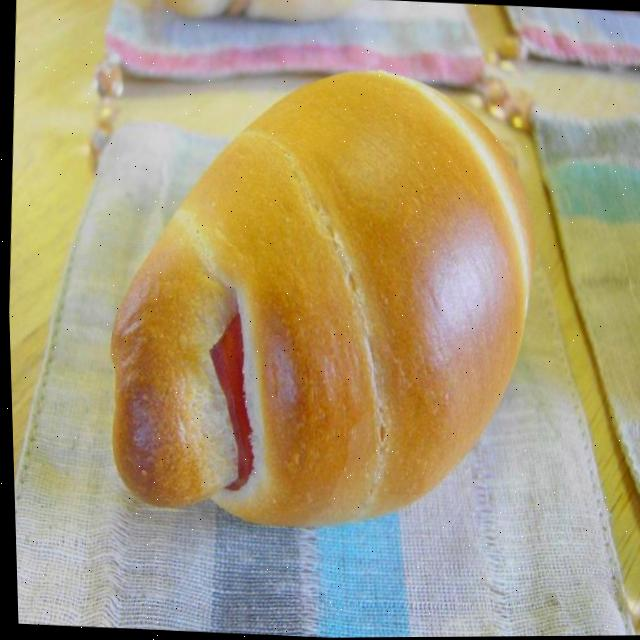面包点心: (77, 36, 560, 550)
